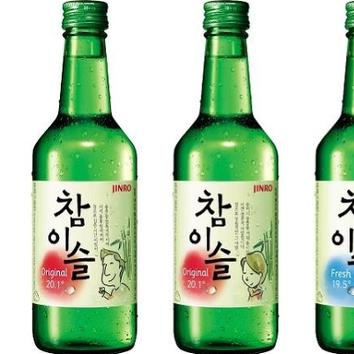soju: (28, 2, 351, 353)
